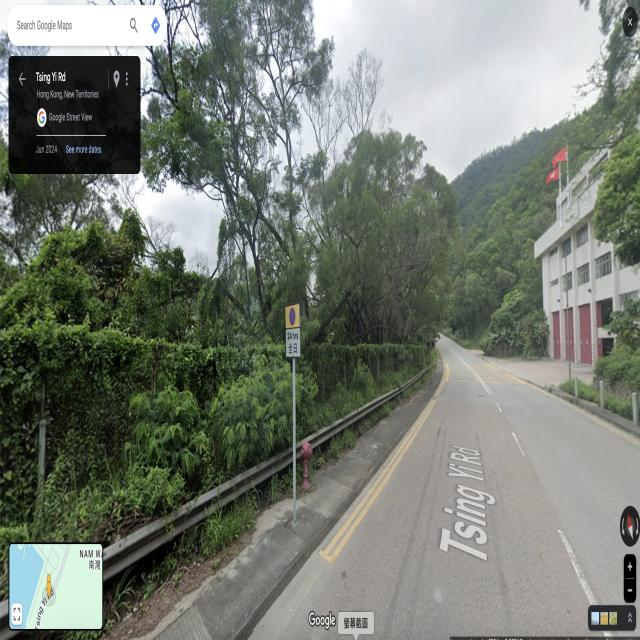Order-Sign: (285, 304, 300, 356)
